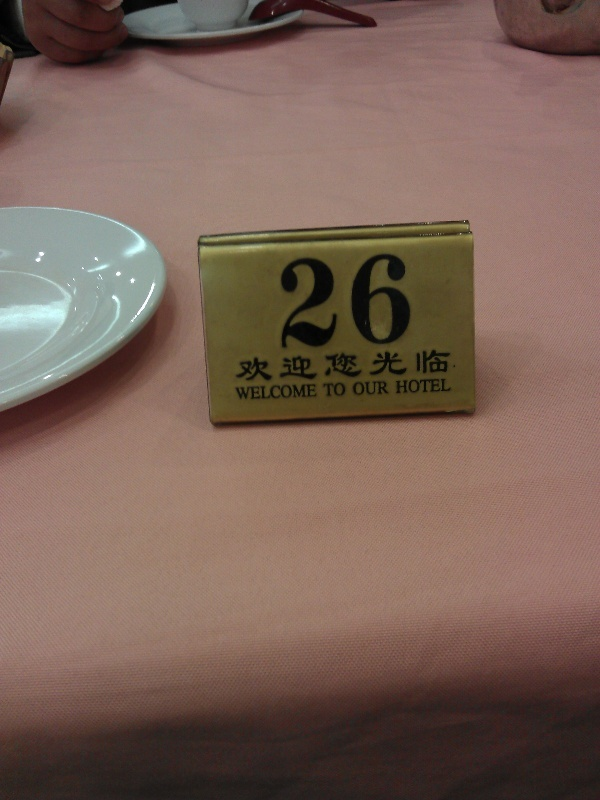text: (289, 252, 304, 351), (305, 252, 320, 351), (321, 252, 336, 351), (337, 252, 352, 351), (353, 252, 368, 351), (369, 252, 384, 351), (385, 252, 400, 351), (401, 252, 414, 351), (277, 252, 288, 351), (241, 345, 256, 386), (257, 345, 272, 386), (273, 345, 288, 386), (289, 345, 304, 386), (305, 345, 320, 386), (321, 345, 336, 386), (337, 345, 352, 386), (353, 345, 368, 386), (369, 345, 384, 386), (385, 345, 400, 386), (401, 345, 416, 386), (417, 345, 432, 386), (433, 345, 448, 386), (241, 383, 256, 404), (257, 383, 272, 404), (273, 383, 288, 404), (289, 383, 304, 404), (305, 383, 319, 404), (233, 345, 240, 386), (353, 379, 368, 398), (369, 379, 384, 398), (401, 377, 416, 396), (417, 377, 432, 396), (433, 377, 448, 396), (322, 381, 336, 399), (449, 345, 454, 386), (337, 381, 348, 399), (385, 379, 390, 398), (395, 377, 400, 396), (236, 383, 240, 404), (449, 377, 453, 396)
